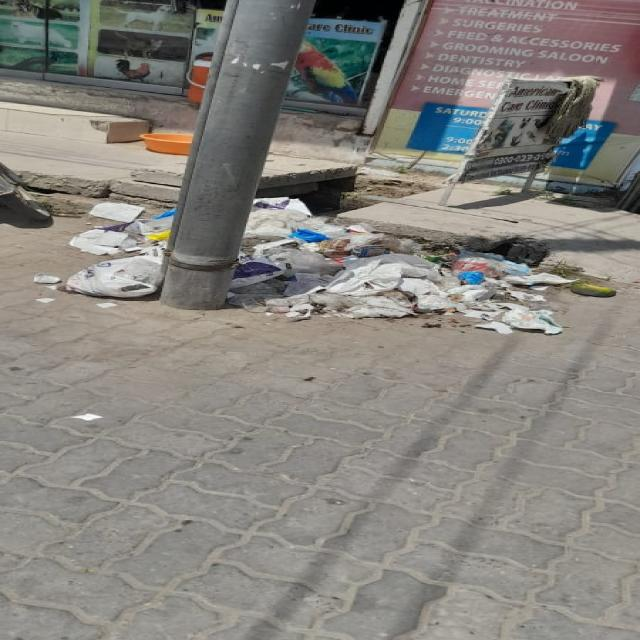plastic: (226, 254, 562, 335), (63, 248, 164, 299), (245, 198, 338, 237), (252, 241, 343, 275), (317, 226, 388, 261)
